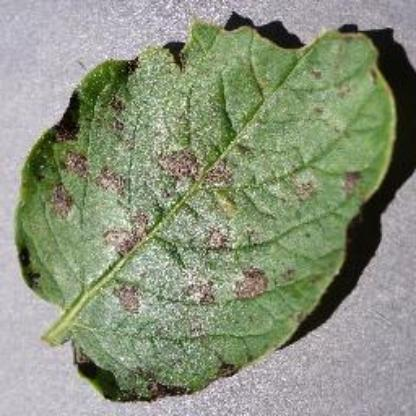Early-Blight: (14, 17, 404, 403)
